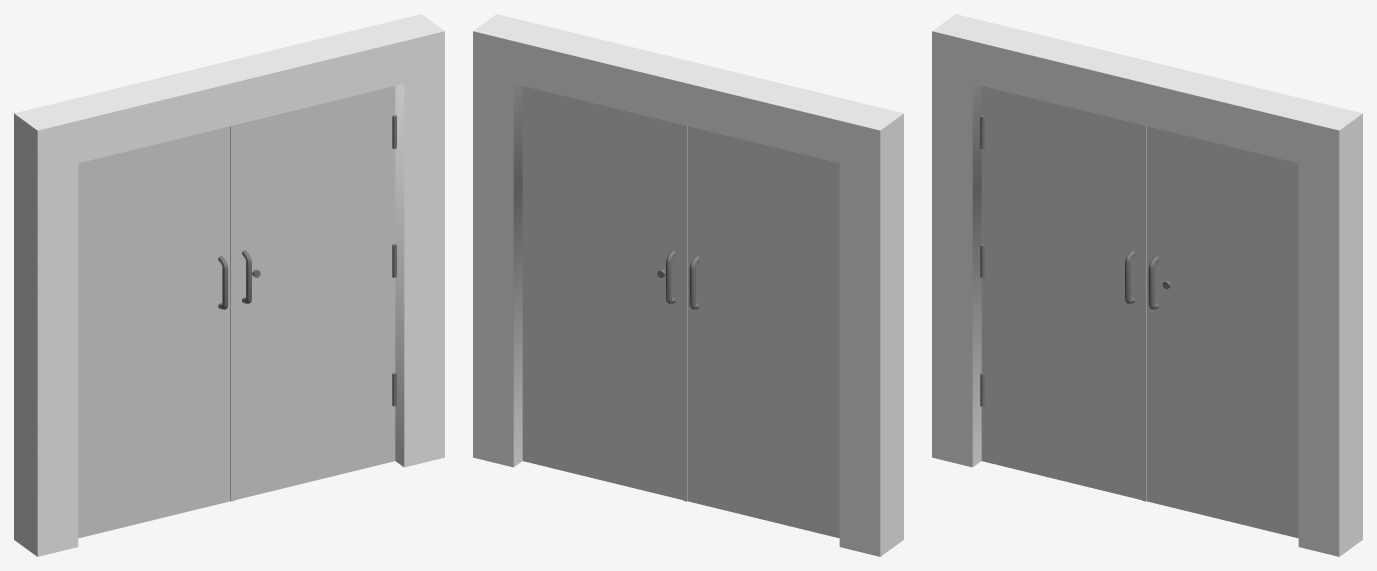
File: fireproof_door-double_door.fbx
The picture shows the model from 3 angles, left to right: view 1: azimuth 30°, elevation 25°; view 2: azimuth 150°, elevation 25°; view 3: azimuth 330°, elevation 25°; orthographic projection.
Visible parts, largest first — view 1: Box001, 对象001, 对象002; view 2: Box001, 对象001, 对象002; view 3: Box001, 对象002, 对象001.
Boxes of the visible parts, <box> form: Box001: <box>14,14,444,556</box>; 对象001: <box>235,86,396,499</box>; 对象002: <box>78,125,234,538</box>; Box001: <box>473,14,903,556</box>; 对象001: <box>522,86,687,501</box>; 对象002: <box>687,126,839,538</box>; Box001: <box>932,14,1362,556</box>; 对象002: <box>980,86,1146,501</box>; 对象001: <box>1146,126,1298,538</box>.
Size of the model in its own units: 78.74 by 78.74 by 7.87.
Materials: 3 (3 with a texture image).
